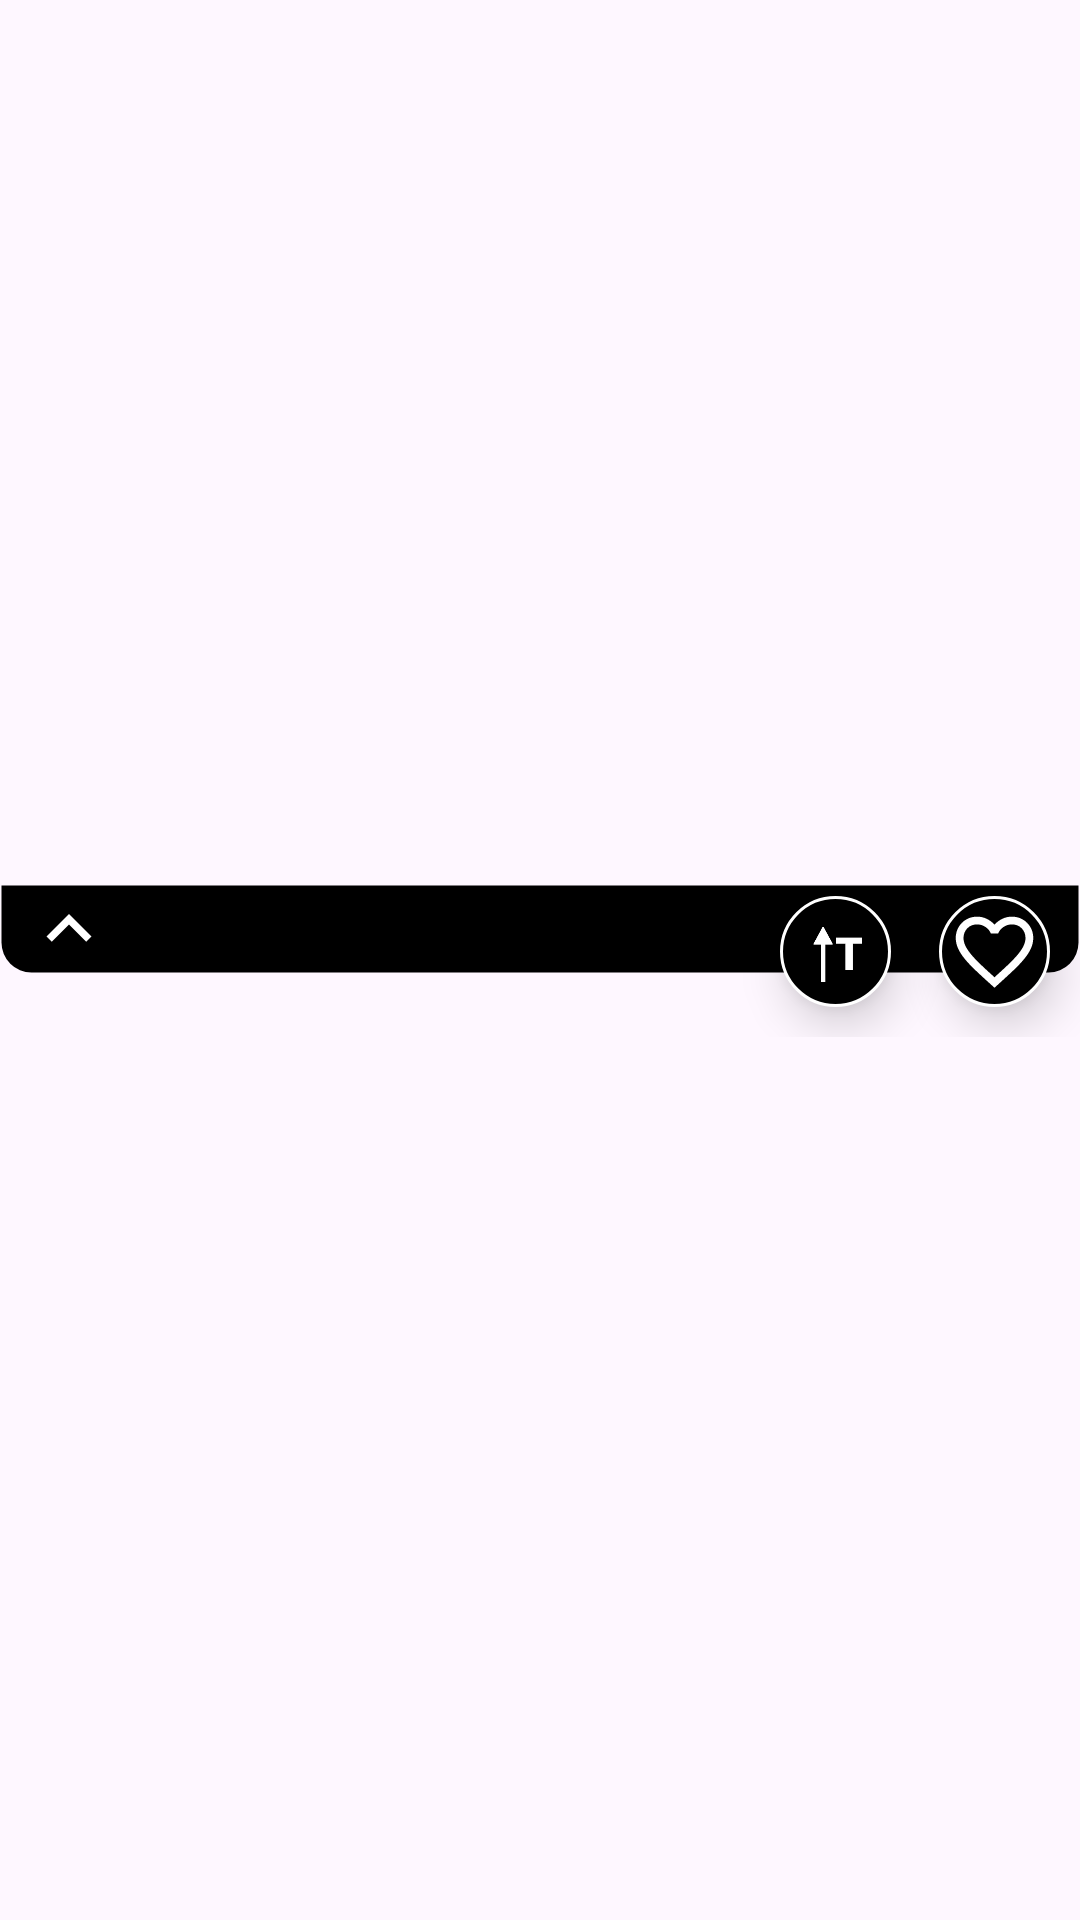

Icons on this 1080px x 1920px Android screen, each with the point to tap as (x=x, y=y):
unfavourite: (x=994, y=951)
